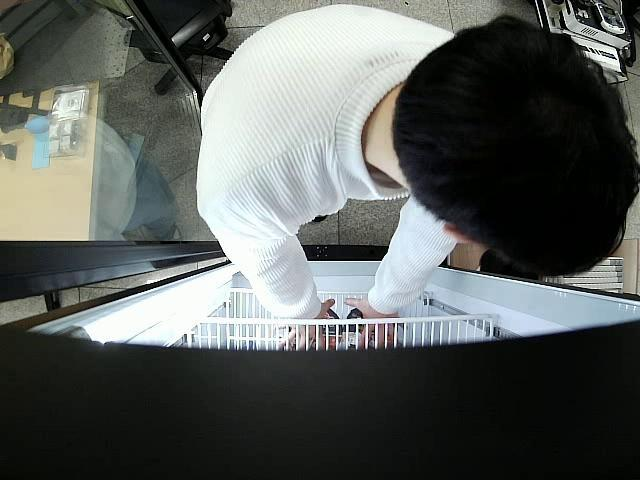07_buldak_L: (290, 302, 344, 351), (346, 308, 403, 348)
